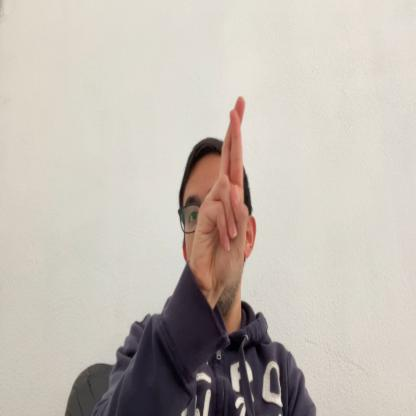R: (192, 97, 249, 296)
